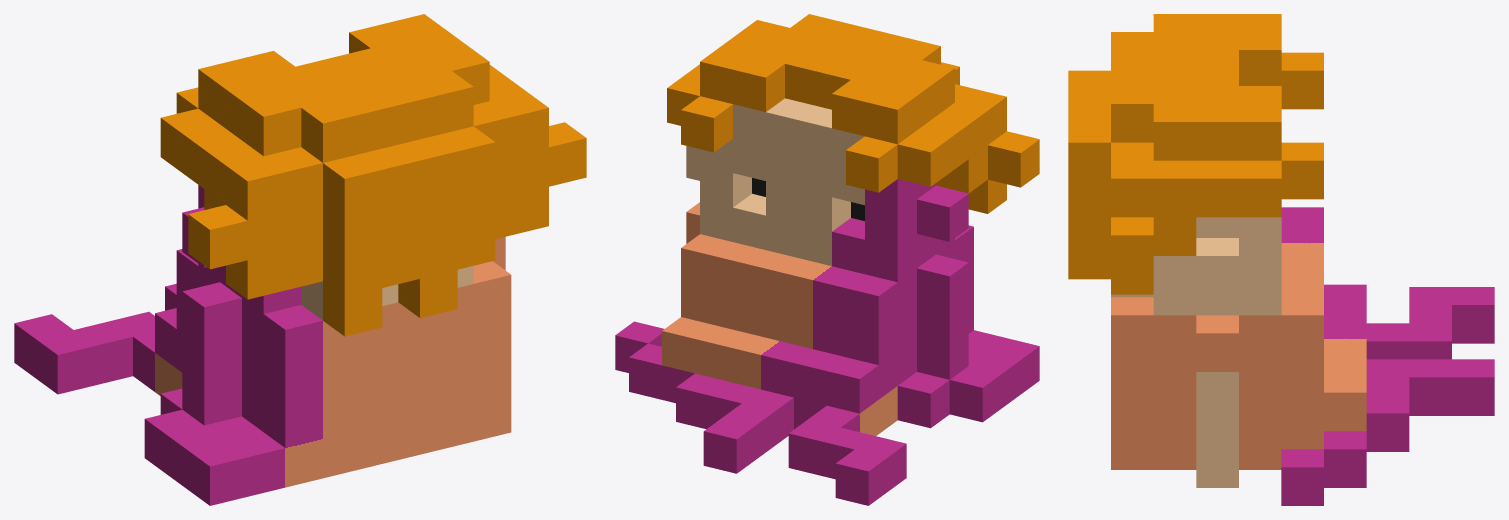
Rendered from alien_infected1.dae.
The picture shows the model from 3 angles, left to right: view 1: azimuth 30°, elevation 25°; view 2: azimuth 150°, elevation 25°; view 3: azimuth 270°, elevation 25°; orthographic projection. The views are drawn at different scales.
Visible parts, largest first — view 1: alien_infected1; view 2: alien_infected1; view 3: alien_infected1.
Boxes of the visible parts, bbox=[...] form: alien_infected1: bbox=[14, 14, 586, 505]; alien_infected1: bbox=[615, 14, 1039, 505]; alien_infected1: bbox=[1068, 14, 1494, 505].
Size of the model in its own units: 1 by 1 by 0.9.
